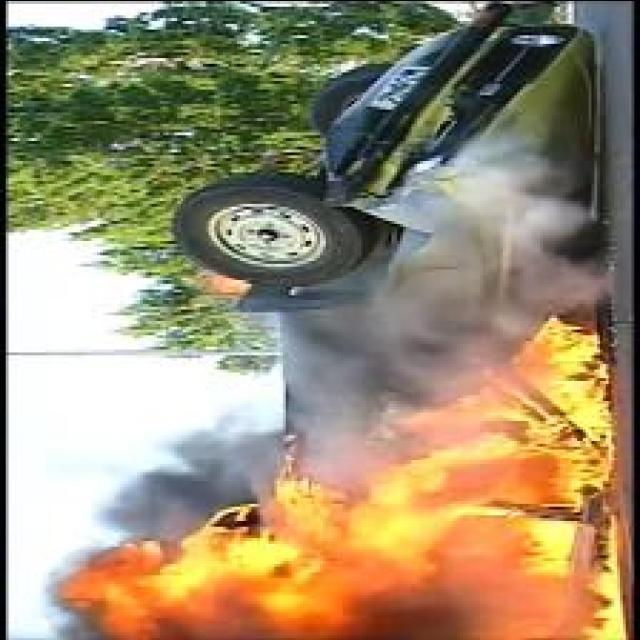Fire: (46, 312, 628, 640)
